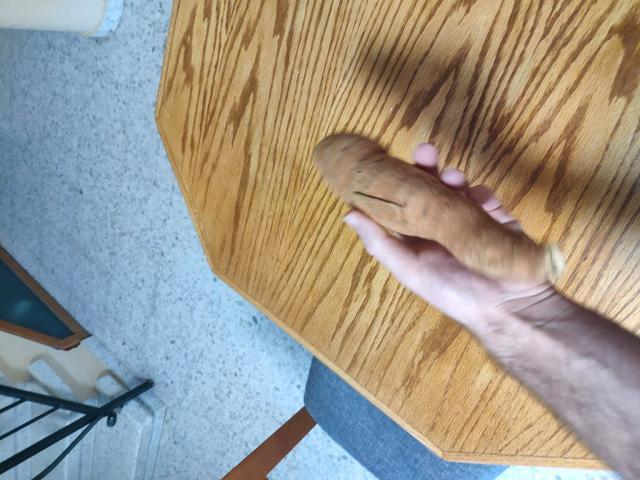sweet_potato: (304, 129, 567, 300)
